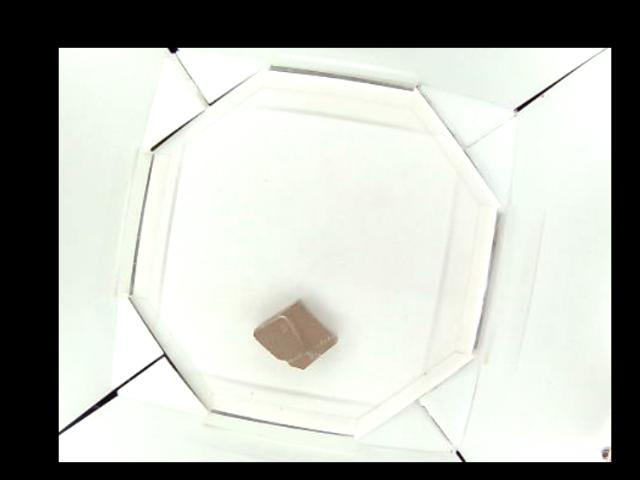China: (251, 302, 340, 368)
